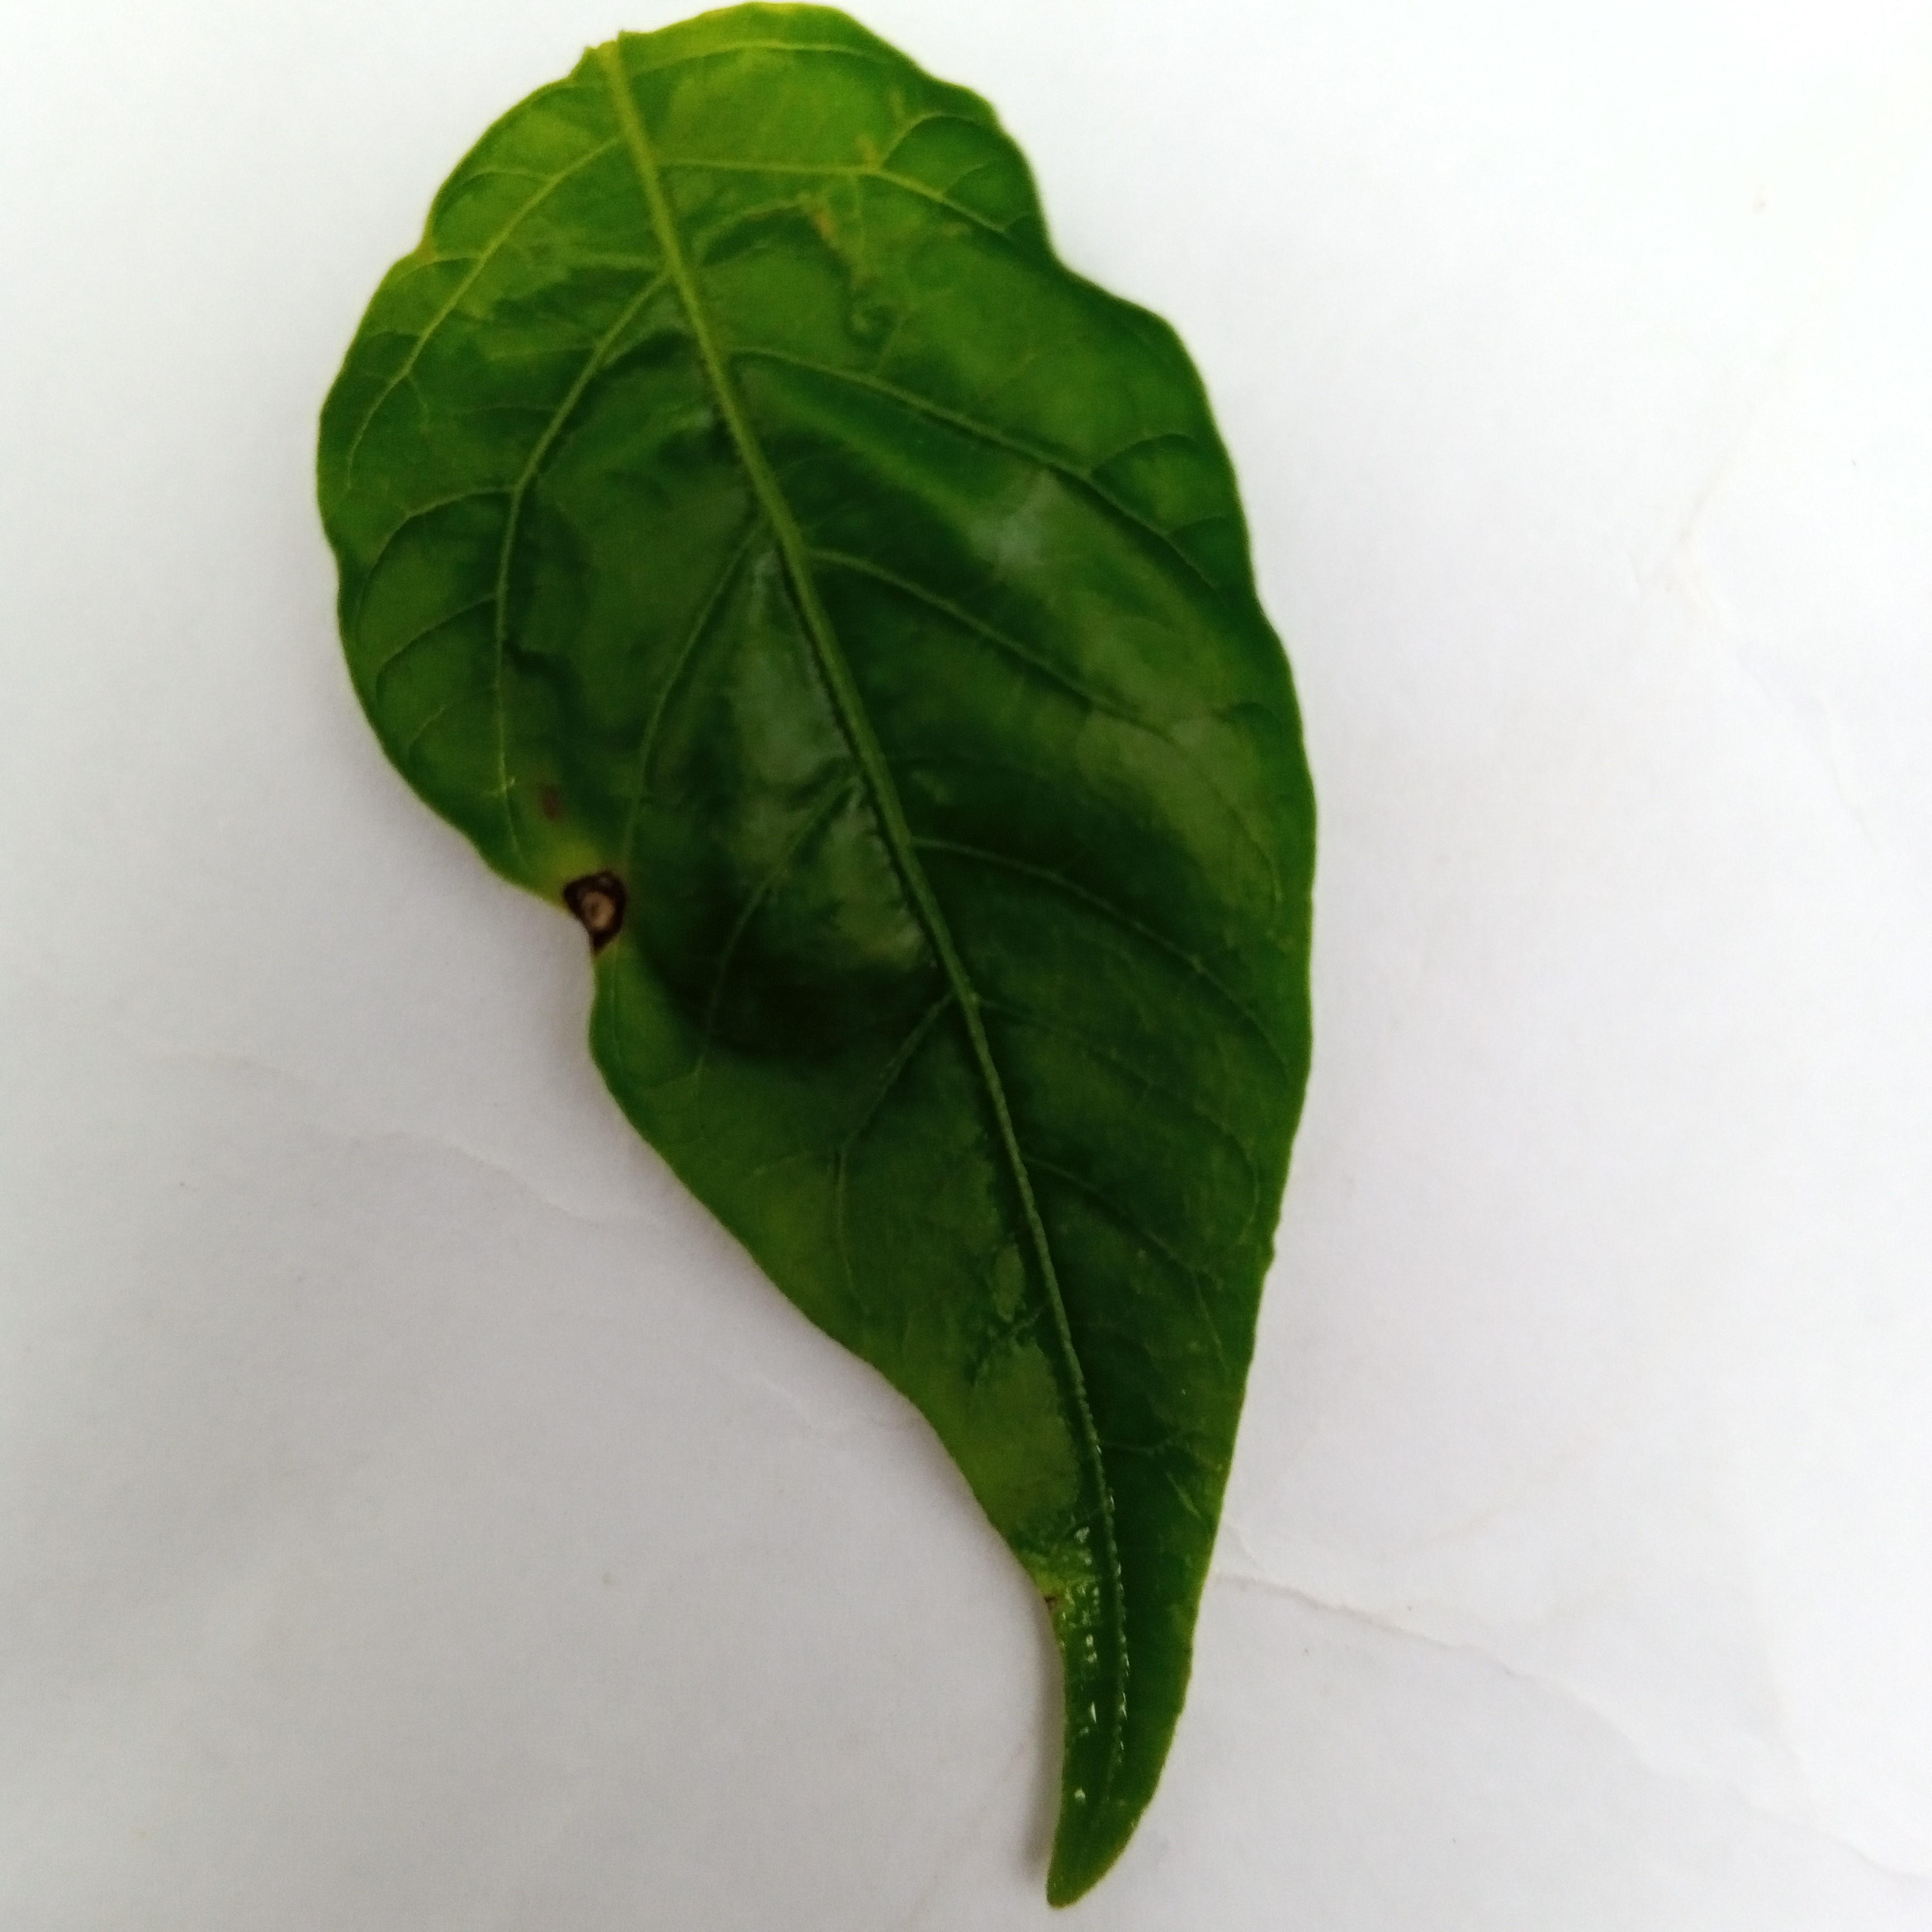Leaf: (239, 0, 1615, 1932)
